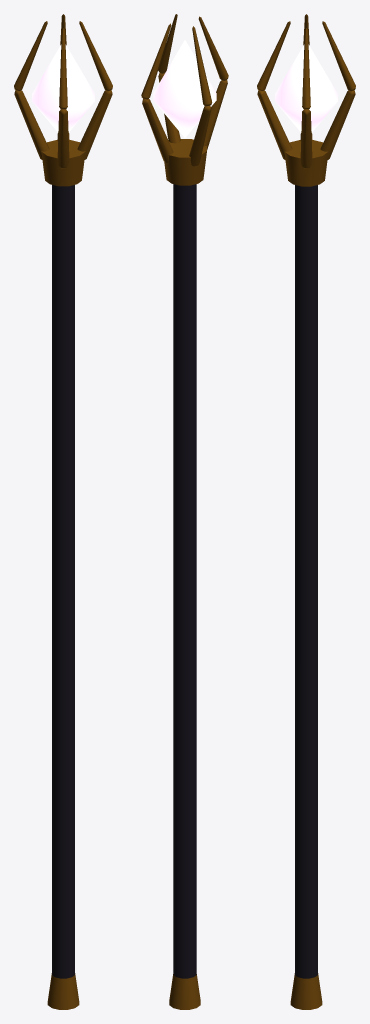
Rendered from Arma_CajadoOraculo.fbx.
The picture shows the model from 3 angles, left to right: view 1: azimuth 90°, elevation 25°; view 2: azimuth 210°, elevation 25°; view 3: azimuth 270°, elevation 25°; orthographic projection.
Visible parts, largest first — view 1: Piece; view 2: Piece; view 3: Piece.
Part boxes in pixels (x1,y1,x2,y2): Piece: (14, 14, 112, 1009); Piece: (141, 14, 228, 1009); Piece: (257, 14, 355, 1009).
Bounding box in the file's own units: 0.1814 × 1.99 × 0.1814.
